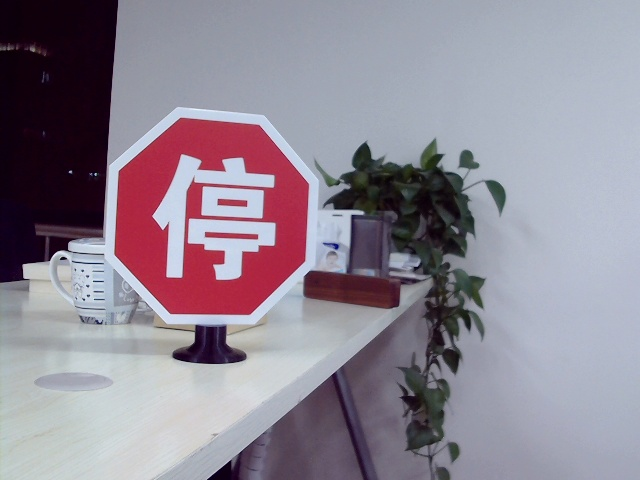stop: (154, 150, 283, 285)
